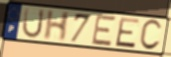7: (70, 12, 93, 44)
C: (138, 19, 163, 53)
E: (90, 14, 118, 48), (114, 17, 141, 50)
H: (42, 10, 72, 42)
U: (21, 7, 46, 40)
